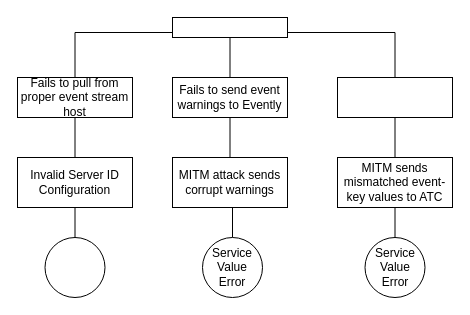
Some shapes in this 470 by 315 pixel diagram are drawn without their labels. The box of each missing label's shape, as (x1, y1, x2, y2) in pixels:
ATC: (172, 16, 288, 38)
Fails to route events to proper event handler: (336, 76, 452, 118)
Item Value Error: (44, 236, 105, 298)
